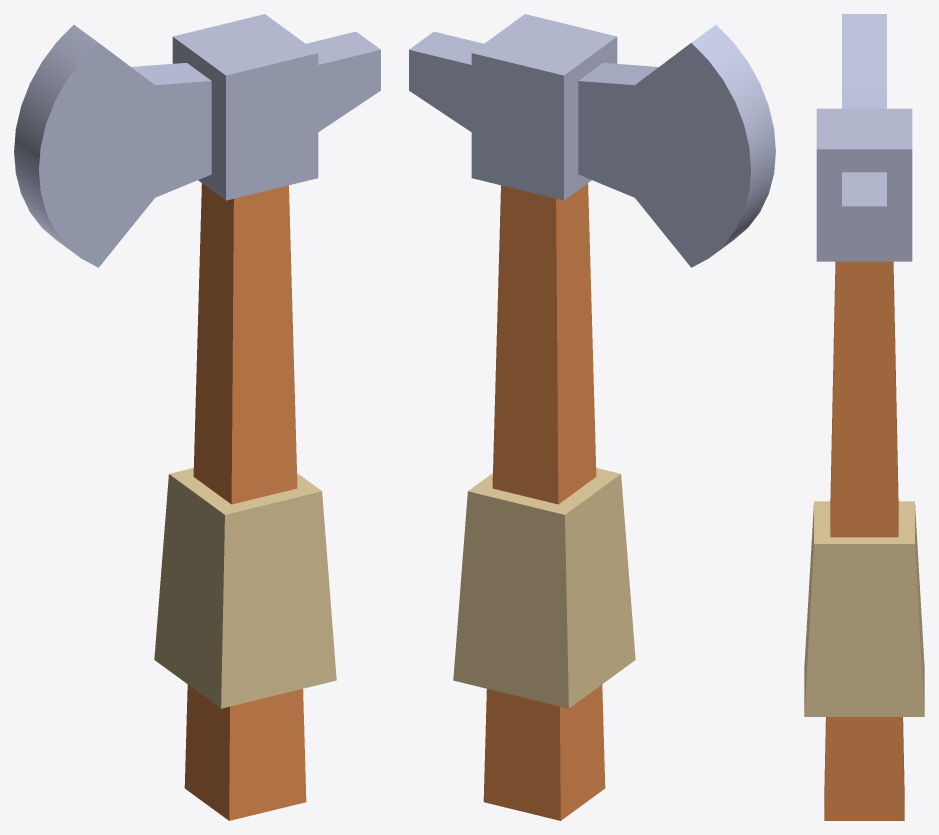
File: toolAxe.fbx
3 renders of one model, left to right at view 1: azimuth 30°, elevation 25°; view 2: azimuth 150°, elevation 25°; view 3: azimuth 270°, elevation 25°, orthographic. The views are drawn at different scales.
Parts seen in each view (by area): view 1: toolAxe; view 2: toolAxe; view 3: toolAxe.
Part boxes in pixels (x1,y1,x2,y2): toolAxe: [14, 14, 380, 820]; toolAxe: [409, 14, 775, 820]; toolAxe: [804, 14, 924, 820].
Bounding box in the file's own units: 1.14 × 2.56 × 0.387.
